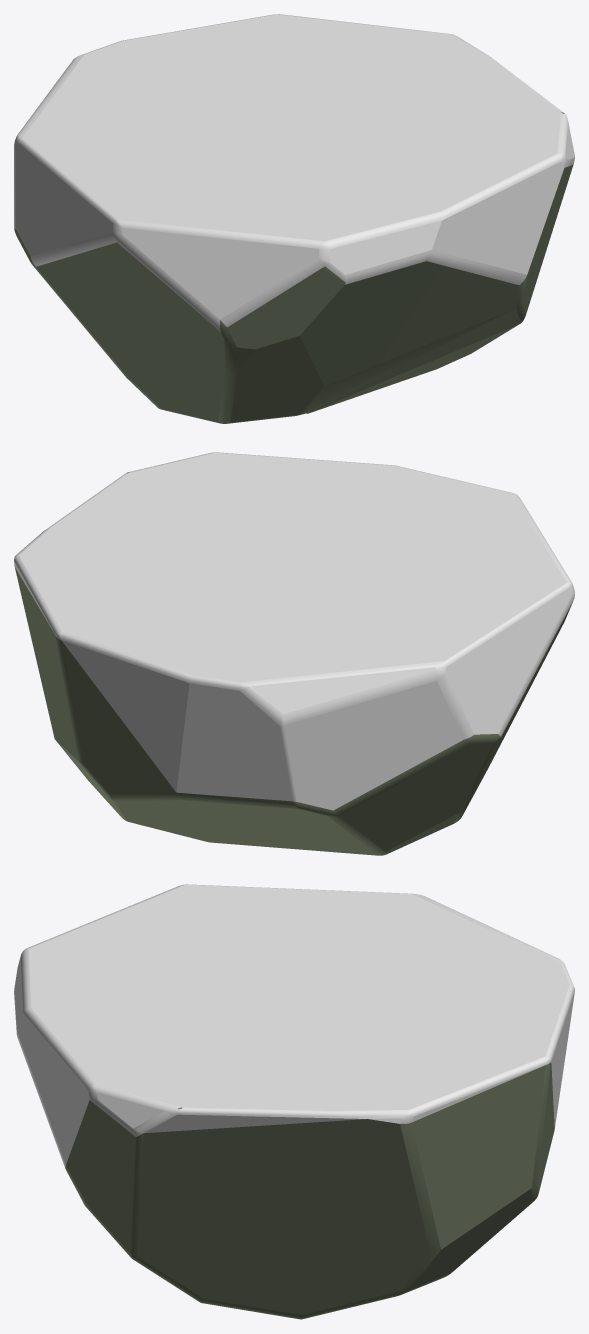
File: Rock 5.fbx
The picture shows the model from 3 angles, top to bottom: view 1: azimuth 30°, elevation 25°; view 2: azimuth 150°, elevation 25°; view 3: azimuth 270°, elevation 25°; orthographic projection. The views are drawn at different scales.
Visible parts, largest first — view 1: Cube.009; view 2: Cube.009; view 3: Cube.009.
Boxes of the visible parts, x1,y1,x2,y2 form: Cube.009: (14, 14, 574, 423); Cube.009: (14, 452, 574, 855); Cube.009: (14, 884, 574, 1319).
Bounding box in the file's own units: 8.64 × 4.72 × 8.82.
